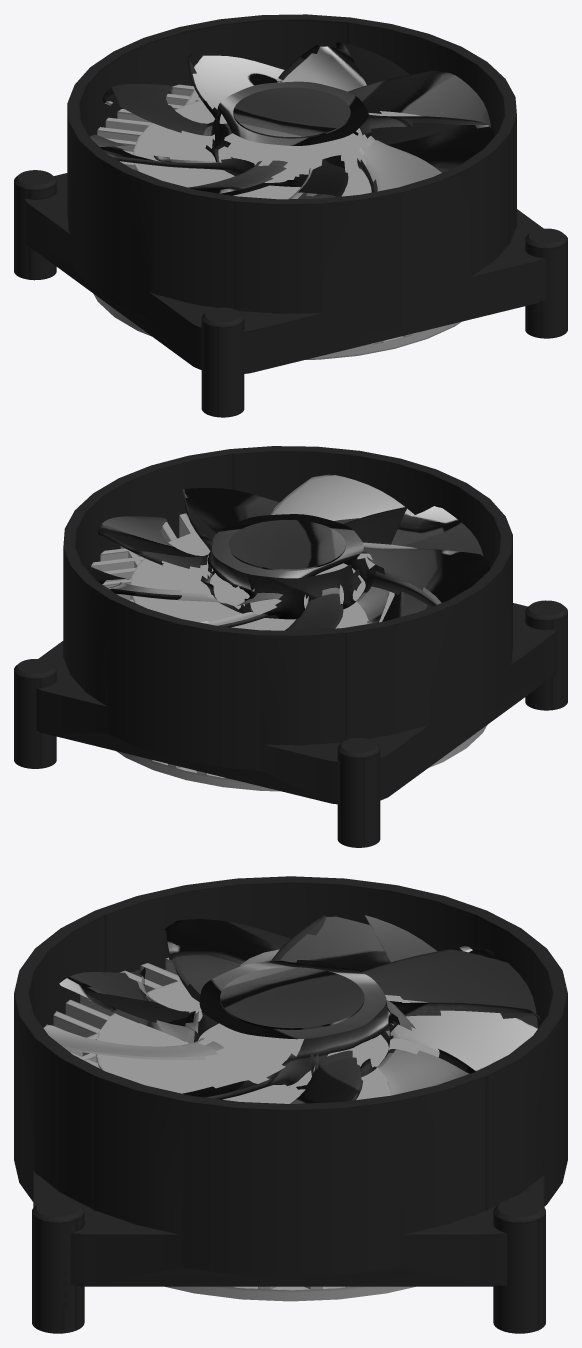
File: CPU_COOLER.fbx
3 views of the same model, one above another, from view 1: azimuth 30°, elevation 25°; view 2: azimuth 150°, elevation 25°; view 3: azimuth 270°, elevation 25° (orthographic). The views are drawn at different scales.
Visible parts, largest first — view 1: COOLER, FAN; view 2: COOLER, FAN; view 3: COOLER, FAN.
Part boxes in pixels (<box>): COOLER: <box>14,14,567,417</box>; FAN: <box>90,42,494,199</box>; COOLER: <box>14,446,567,847</box>; FAN: <box>86,474,489,630</box>; COOLER: <box>14,876,567,1333</box>; FAN: <box>43,912,540,1103</box>.
Size of the model in its own units: 132 by 61.55 by 132.
